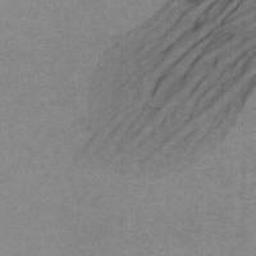Water spot: (70, 0, 256, 183)
